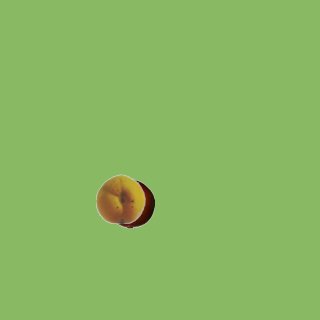Apple Braeburn: (104, 178, 154, 228)
Peach 2: (95, 173, 145, 223)
